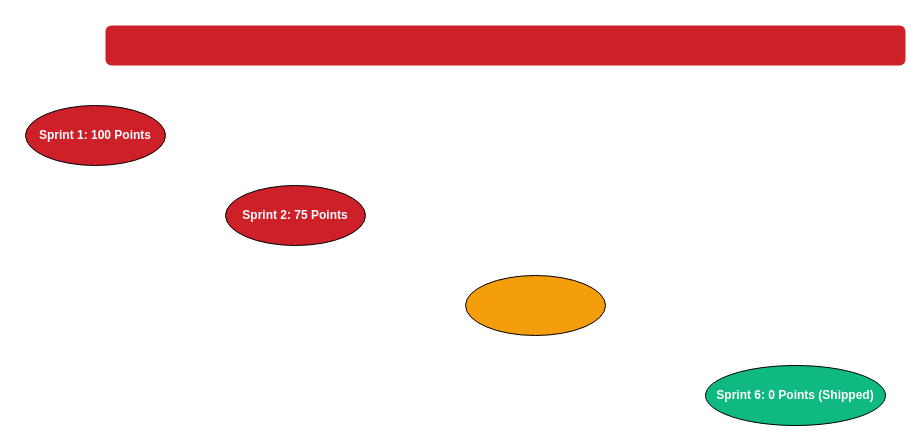
This 923x443 diagram has some shape labels left out. The centre of each missing label's shape, as x and y in pixels:
FIGURE 2: SPRINT BURNDOWN CHART (100 STORY POINTS TO 0): the point at 505,45
Sprint 4: 35 Points: the point at 535,305
